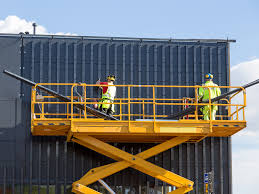Scissor Lift: (31, 82, 247, 194)
